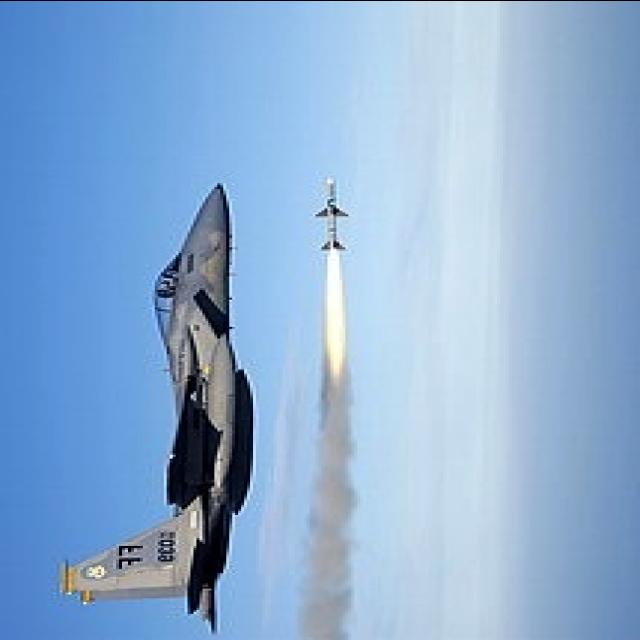F15: (41, 170, 303, 640)
